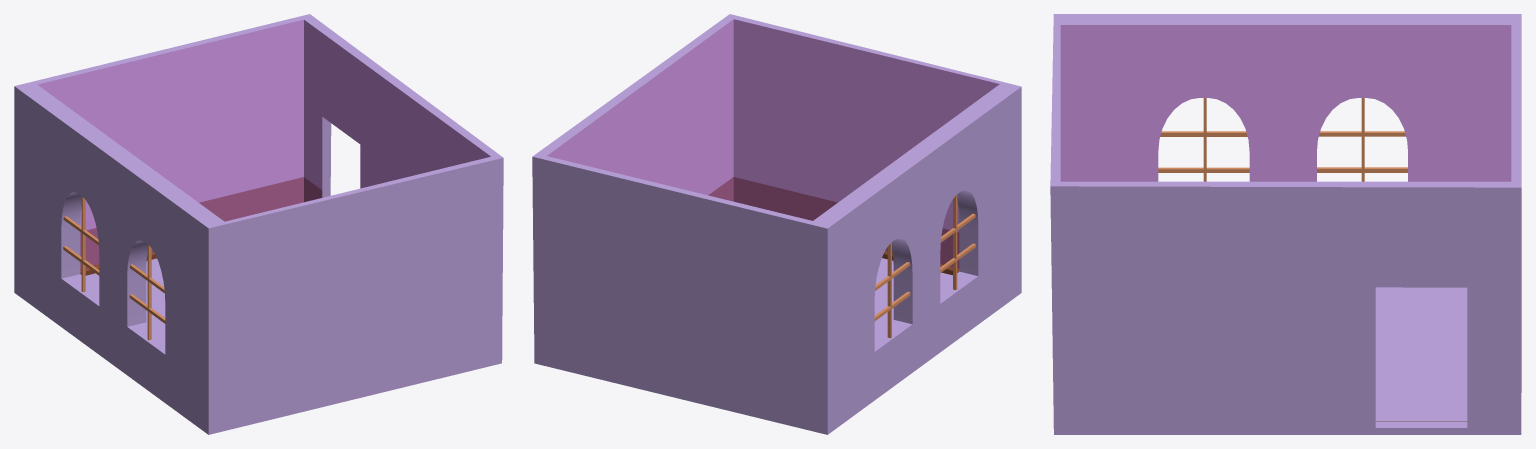
File: room.fbx
3 views of the same model, side by side, from view 1: azimuth 30°, elevation 25°; view 2: azimuth 150°, elevation 25°; view 3: azimuth 270°, elevation 25° (orthographic). The views are drawn at different scales.
Visible parts, largest first — view 1: 立方體; view 2: 立方體; view 3: 立方體, 立方體.003, 立方體.005, 立方體.002, 立方體.004.
Boxes of the visible parts, box(x1,y1,x2,y2) form: 立方體: box(14, 14, 503, 434); 立方體: box(532, 14, 1021, 434); 立方體: box(1050, 14, 1521, 434); 立方體.003: box(1158, 167, 1249, 172); 立方體.005: box(1317, 167, 1407, 172); 立方體.002: box(1160, 131, 1247, 136); 立方體.004: box(1319, 131, 1405, 136).
Size of the model in its own units: 426 by 284 by 489.
